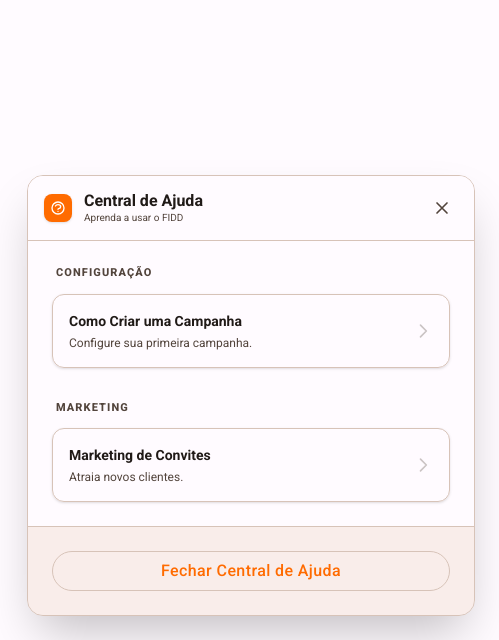
Test case: HelpCenter › deve voltar para a lista ao clicar em Voltar
This screenshot has width=499, height=640.
Click the heading "Como Criar uma Campanha" at x=155, y=320, box [69,312,242,328]
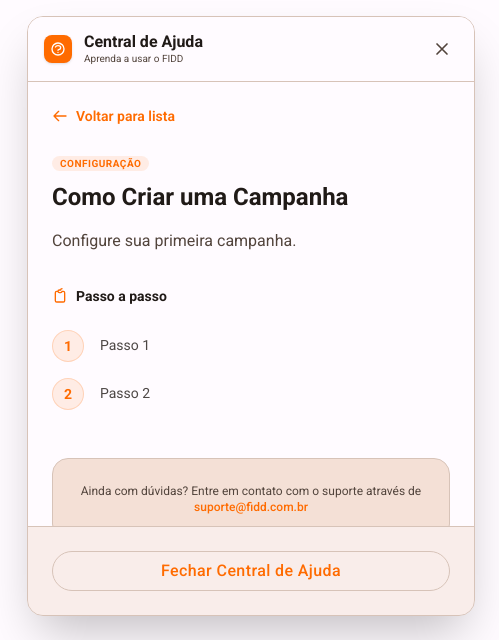
Click the button "Voltar para lista" at x=114, y=116, box [52,106,175,126]
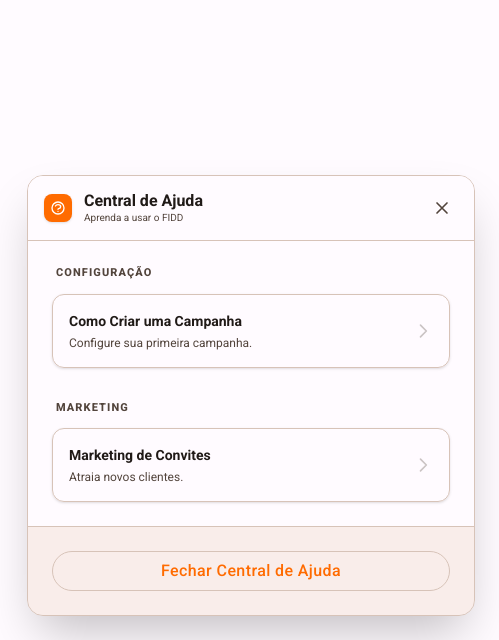
Expected: the heading "Marketing de Convites" is shown, [69,447,211,463]
